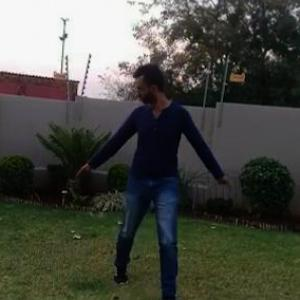land: (75, 52, 263, 299)
